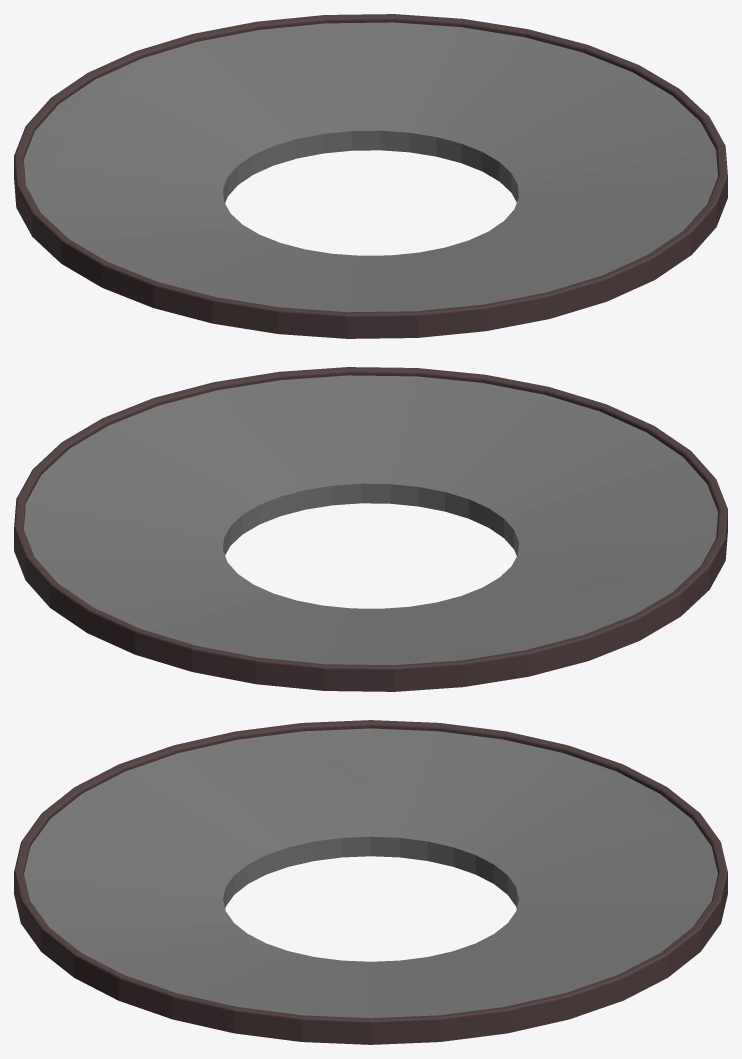
The model's file is Rim.fbx.
3 renders of one model, top to bottom at view 1: azimuth 30°, elevation 25°; view 2: azimuth 150°, elevation 25°; view 3: azimuth 270°, elevation 25°, orthographic.
Visible parts, largest first — view 1: Rim; view 2: Rim; view 3: Rim.
Boxes of the visible parts, x1=… form: Rim: x1=14, y1=14, x2=727, y2=338; Rim: x1=14, y1=367, x2=727, y2=691; Rim: x1=14, y1=720, x2=727, y2=1044.
Size of the model in its own units: 459 by 459 by 34.47.
